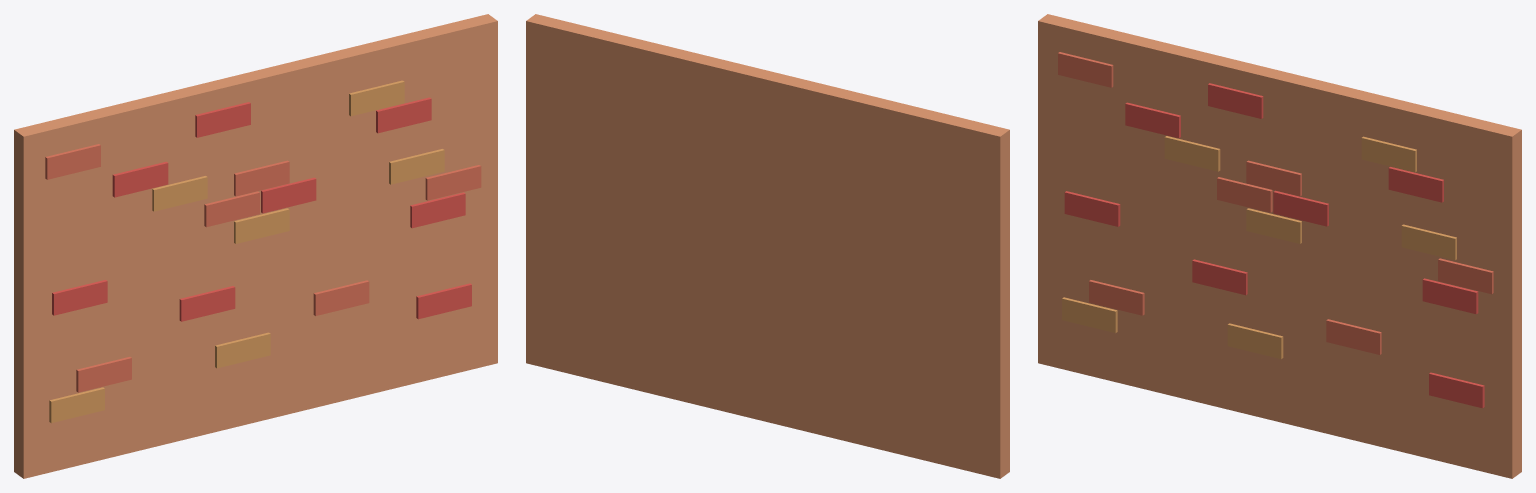
File: wall1.fbx
3 views of the same model, side by side, from view 1: azimuth 30°, elevation 25°; view 2: azimuth 150°, elevation 25°; view 3: azimuth 330°, elevation 25° (orthographic).
Visible parts, largest first — view 1: polySurface465, polySurface470, polySurface474, polySurface468, polySurface477, polySurface410, polySurface475, polySurface462, polySurface459, polySurface472, polySurface473, polySurface458 (+9 smaller); view 2: polySurface465; view 3: polySurface465, polySurface472, polySurface410, polySurface476, polySurface475, polySurface470, polySurface471, polySurface474, polySurface473, polySurface458, polySurface463, polySurface461 (+9 smaller).
Part boxes in pixels (x1,y1,x2,y2): polySurface465: (14,14,497,478); polySurface470: (179,286,235,321); polySurface474: (112,161,168,197); polySurface468: (425,165,481,200); polySurface477: (313,280,369,315); polySurface410: (215,332,270,368); polySurface475: (410,192,465,228); polySurface462: (376,97,431,133); polySurface459: (349,80,404,116); polySurface472: (52,280,107,315); polySurface473: (76,357,131,392); polySurface458: (49,387,104,423); polySurface465: (526,14,1009,478); polySurface465: (1038,14,1521,478); polySurface472: (1064,191,1120,226); polySurface410: (1227,323,1283,359); polySurface476: (1164,136,1220,171); polySurface475: (1422,278,1478,314); polySurface470: (1192,259,1247,295); polySurface471: (1058,52,1113,87); polySurface474: (1125,102,1180,138); polySurface473: (1089,280,1144,315); polySurface458: (1062,297,1117,333); polySurface463: (1246,160,1301,196); polySurface461: (1217,177,1272,212).
Size of the model in its own units: 5 by 3.45 by 0.2093.
